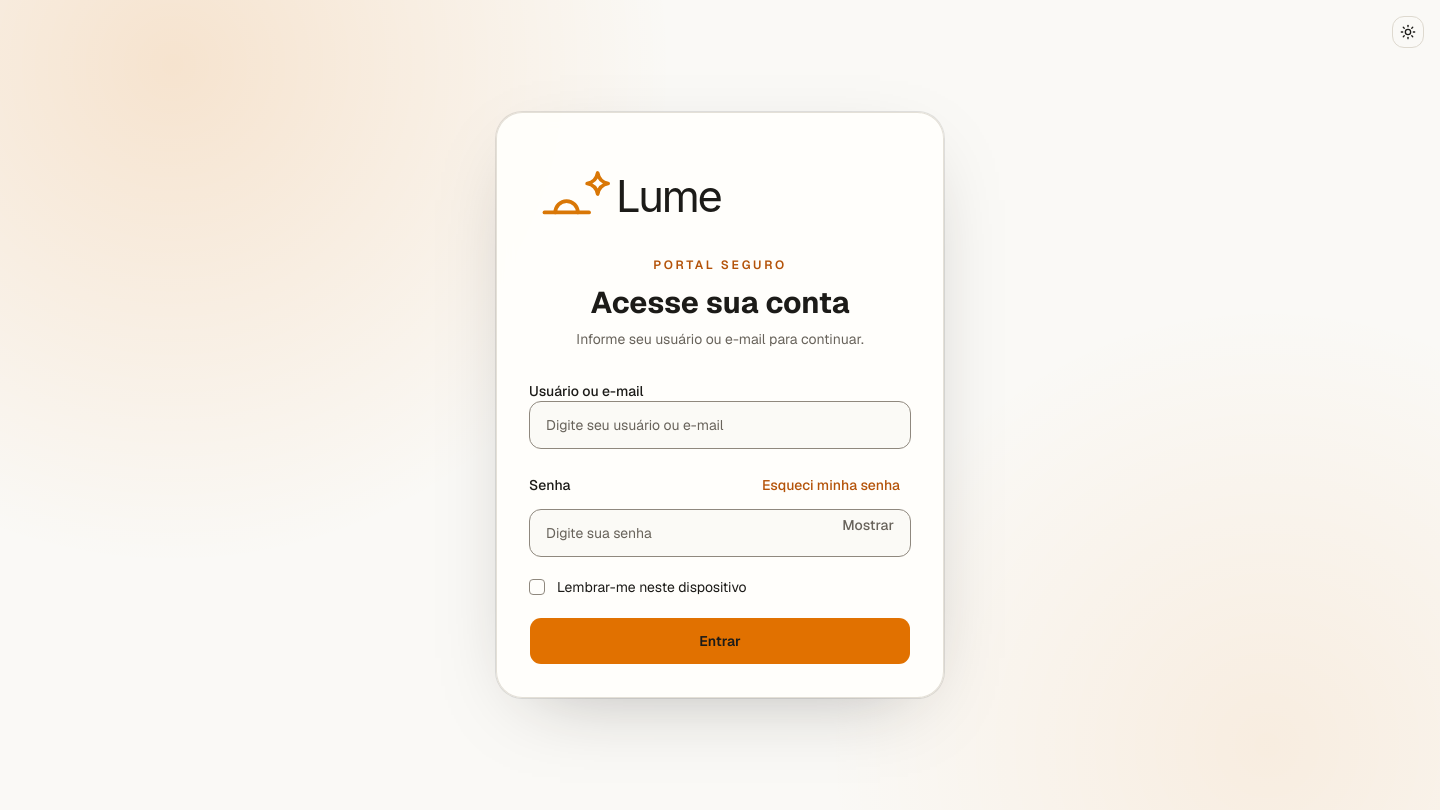
Scenario: LoginPage › deve exibir os erros dos campos obrigatórios
This screenshot has width=1440, height=810.
Step 1. Click the button "Entrar" → (720, 641), box [529,617,911,665]
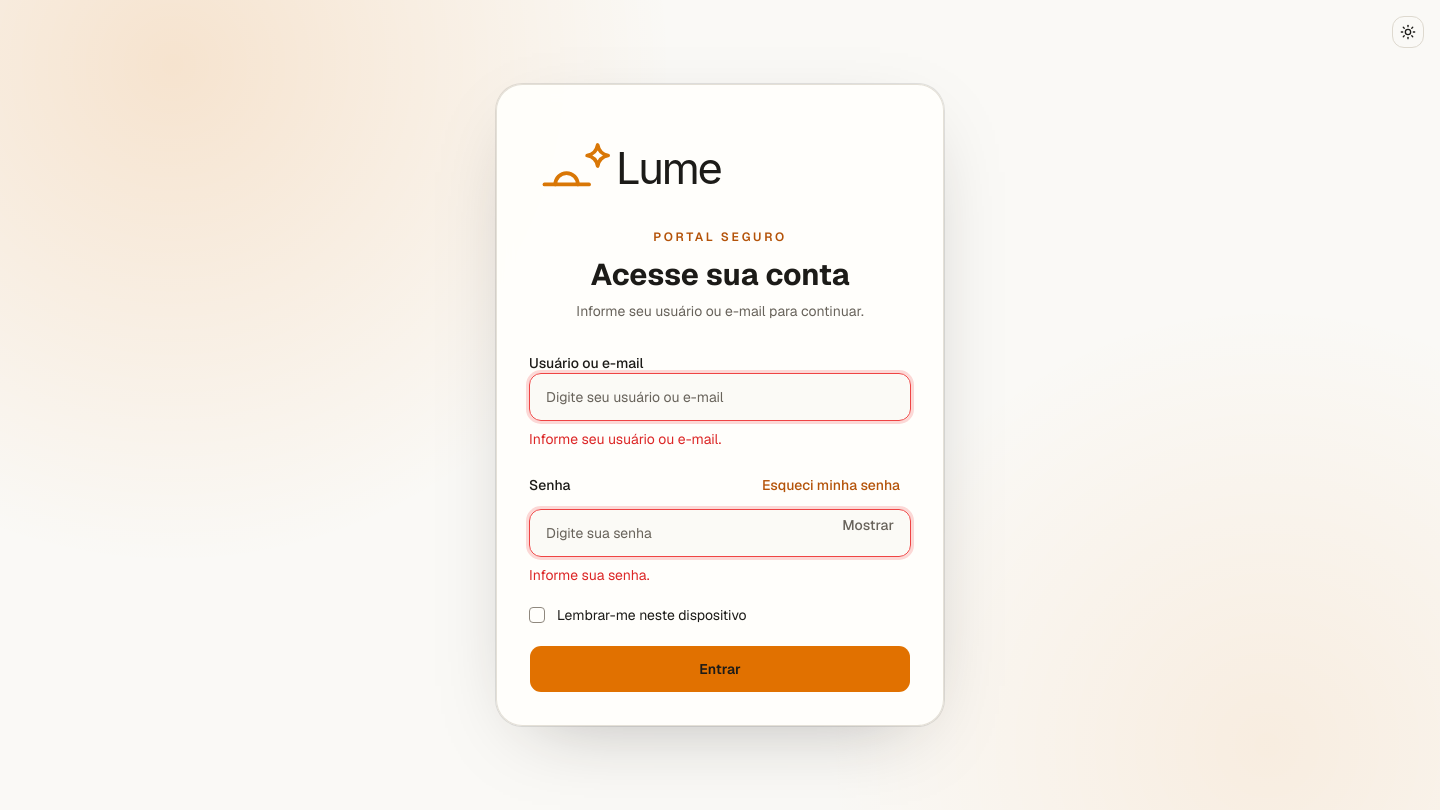
Check: the text "Informe seu usuário ou e-mail." is shown, box [529,430,721,448]
Check: the text "Informe sua senha." is shown, box [529,566,650,584]
